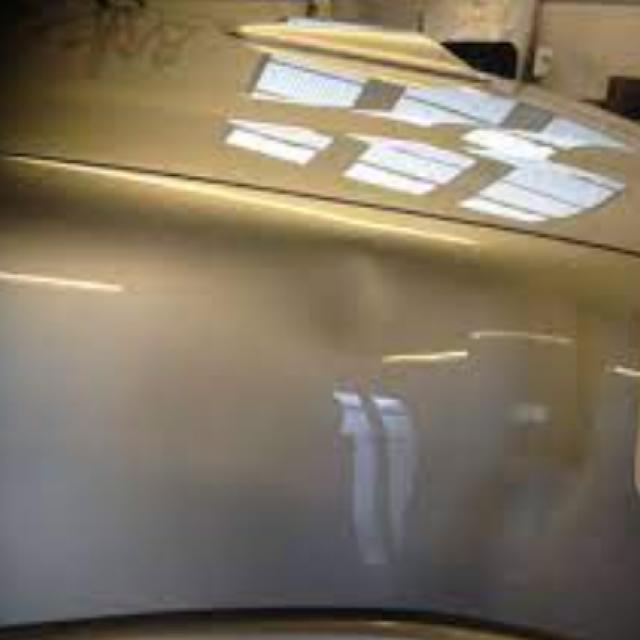dents: (475, 335, 616, 597)
